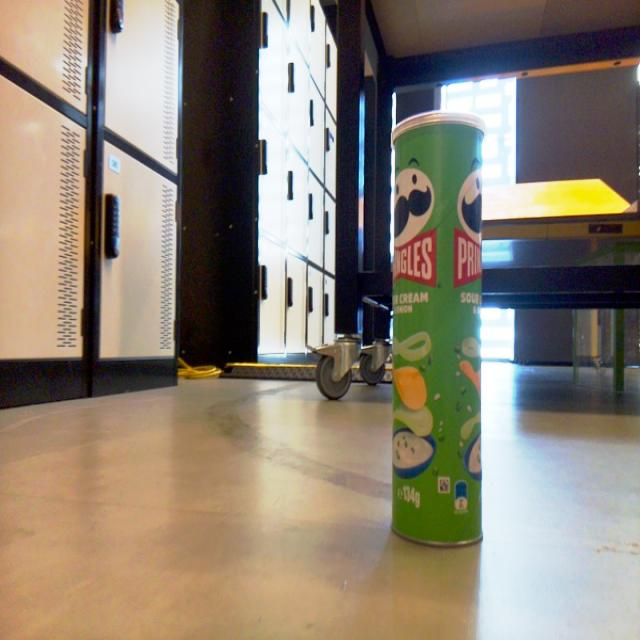greenpringles: (371, 102, 505, 558)
